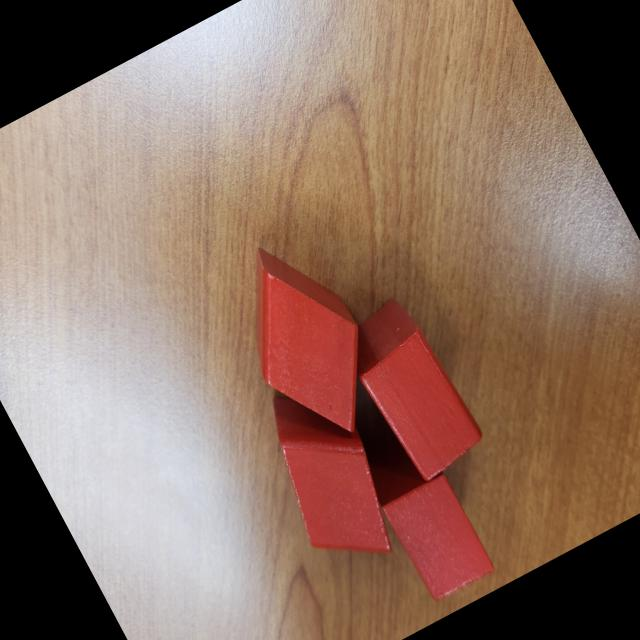red: (206, 222, 402, 460), (241, 368, 417, 586), (333, 291, 491, 488), (376, 467, 498, 607)
